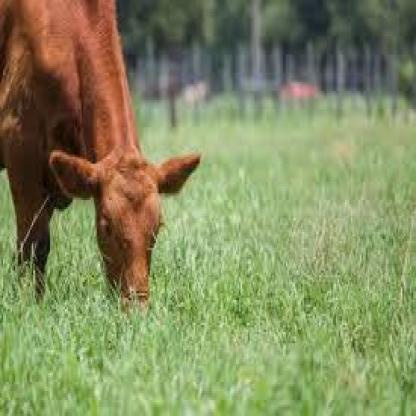cow: (0, 0, 201, 309)
